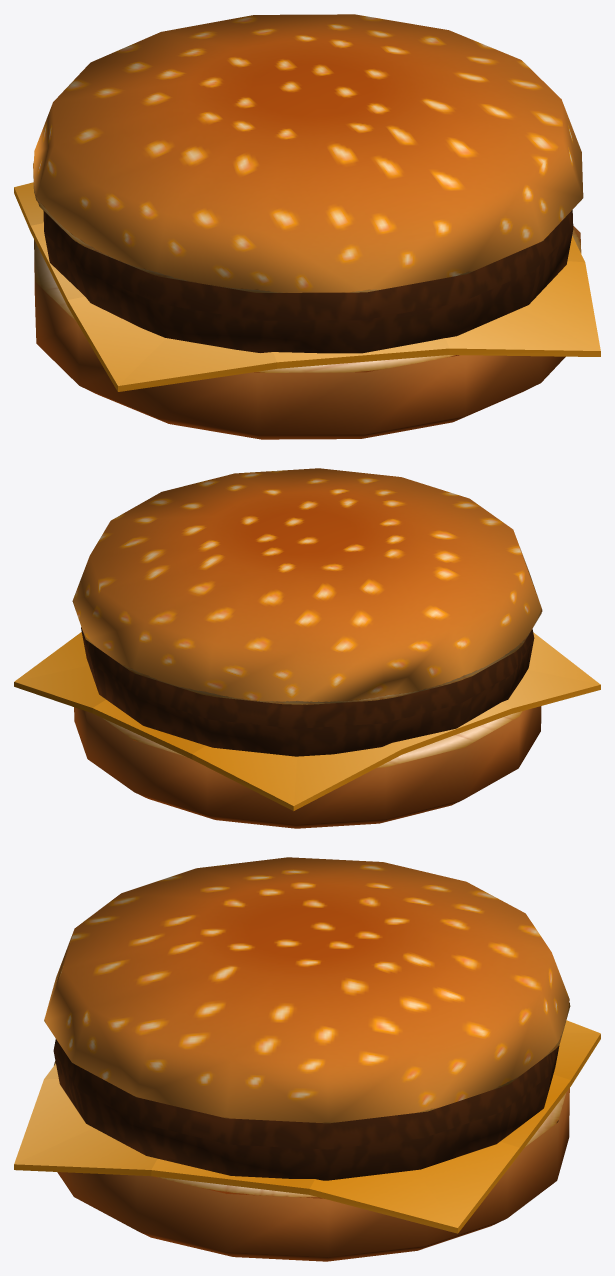
The model's file is cheesburger.fbx.
3 views of the same model, one above another, from view 1: azimuth 30°, elevation 25°; view 2: azimuth 150°, elevation 25°; view 3: azimuth 270°, elevation 25° (orthographic). The views are drawn at different scales.
Parts seen in each view (by area): view 1: Cheeseburger; view 2: Cheeseburger; view 3: Cheeseburger.
Boxes of the visible parts, bbox=[...] form: Cheeseburger: bbox=[14, 14, 600, 439]; Cheeseburger: bbox=[14, 468, 600, 828]; Cheeseburger: bbox=[14, 857, 600, 1261].
Bounding box in the file's own units: 288 × 127 × 287.
3 materials, 3 textured.
